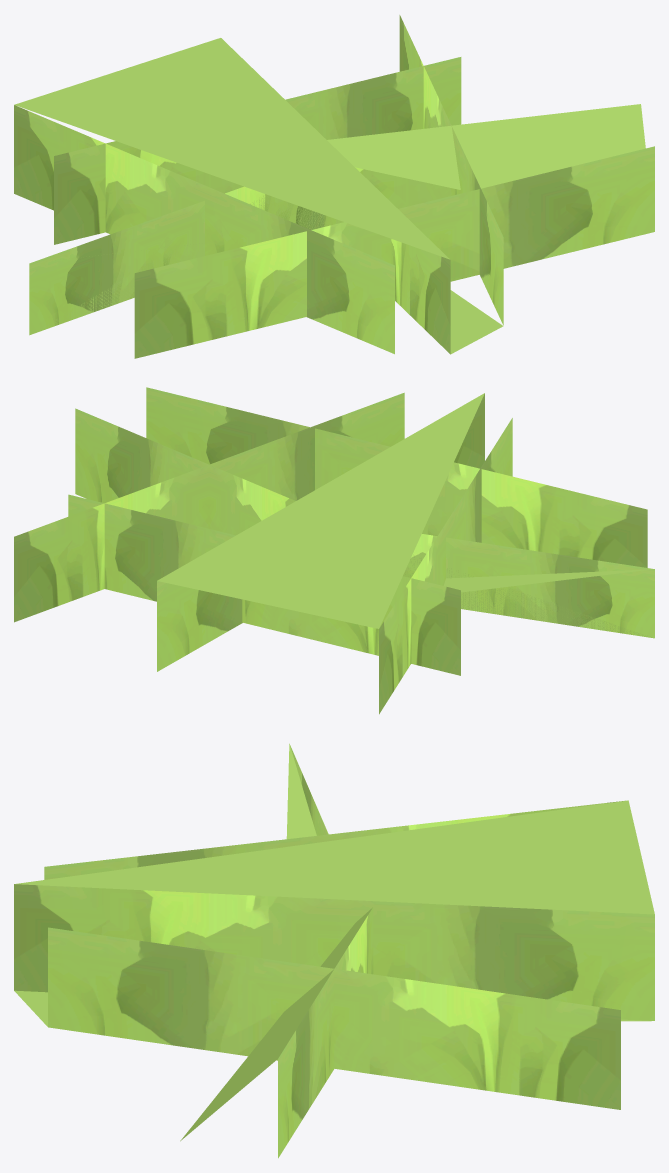
The model's file is SM_Env_Grass_Short_Clump_02.glb.
3 views of the same model, one above another, from view 1: azimuth 30°, elevation 25°; view 2: azimuth 150°, elevation 25°; view 3: azimuth 270°, elevation 25° (orthographic). The views are drawn at different scales.
Parts seen in each view (by area): view 1: SM_Env_Grass_Short_Clump_02; view 2: SM_Env_Grass_Short_Clump_02; view 3: SM_Env_Grass_Short_Clump_02.
Part boxes in pixels (bbox=[...]): SM_Env_Grass_Short_Clump_02: bbox=[14, 15, 654, 358]; SM_Env_Grass_Short_Clump_02: bbox=[14, 387, 654, 714]; SM_Env_Grass_Short_Clump_02: bbox=[14, 743, 654, 1158].
Bounding box in the file's own units: 1.79 × 0.2664 × 1.45.
1 material, 1 textured.
